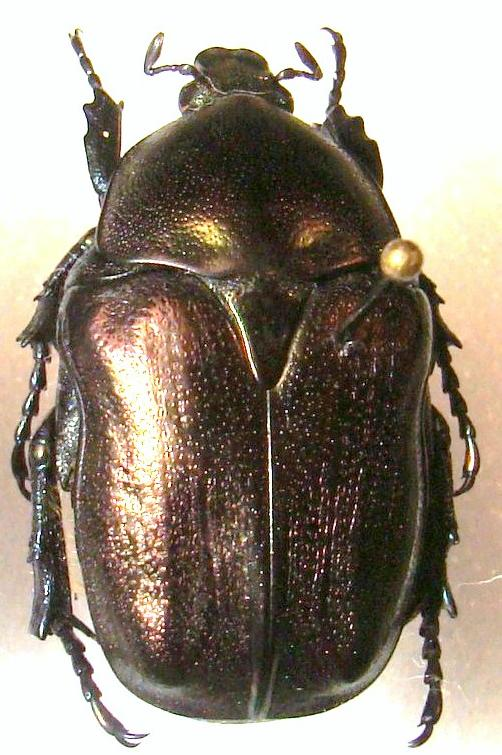Protaetia_besucheti: (11, 14, 475, 749)
